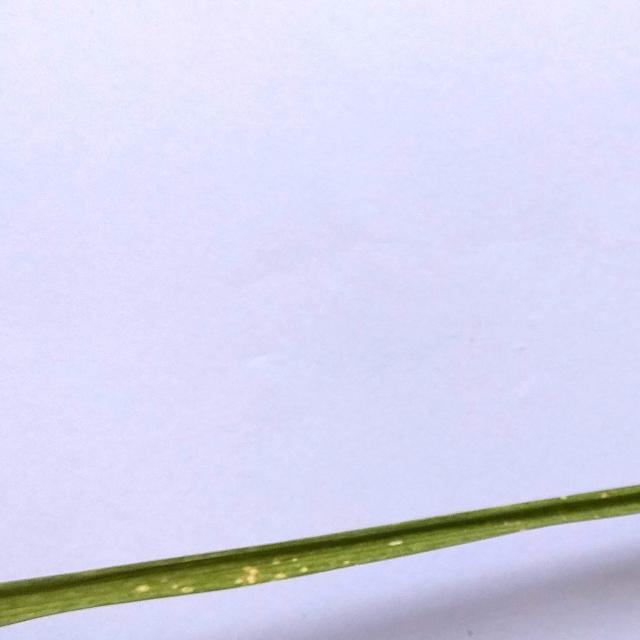Blast: (232, 560, 262, 588), (274, 558, 314, 575), (170, 580, 192, 592), (134, 580, 151, 594), (386, 538, 404, 550)
